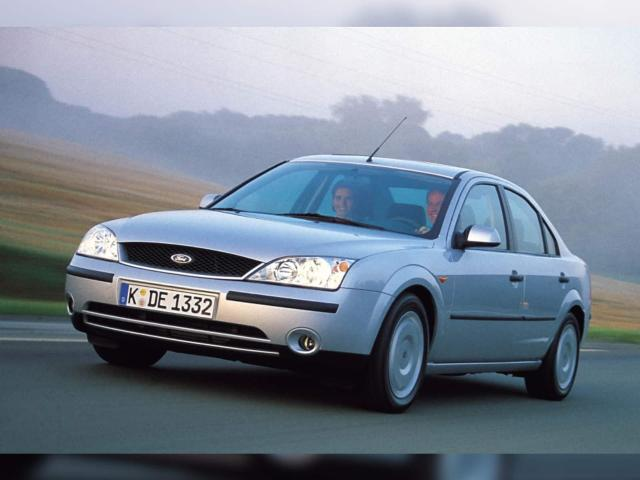ford: (63, 116, 591, 412)
